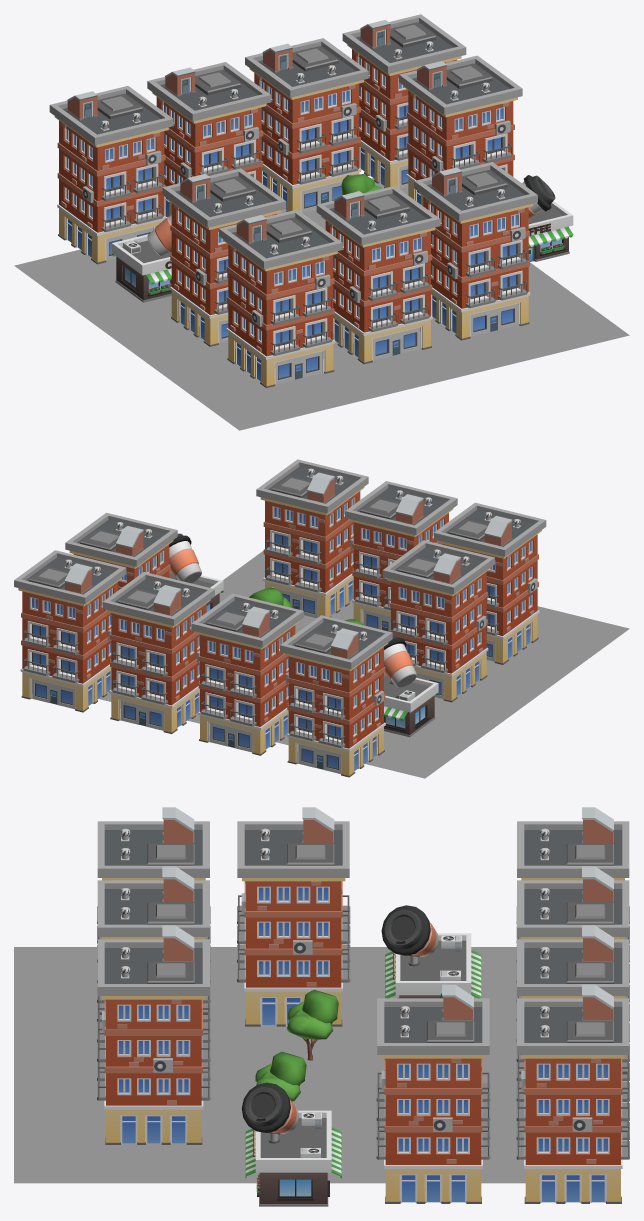
File: block_residential.glb
3 views of the same model, one above another, from view 1: azimuth 30°, elevation 25°; view 2: azimuth 150°, elevation 25°; view 3: azimuth 270°, elevation 25° (orthographic). The views are drawn at different scales.
Parts seen in each view (by area): view 1: building_0_0, building_0_3, building_1_0, building_2_0, building_2_3, building_3_2, building_0_1, building_1_3, building_3_3, ground_0_0, ground_3_0, ground_1_0 (+8 smaller); view 2: building_0_3, building_3_3, building_1_3, building_2_3, building_2_0, building_0_1, building_0_0, building_1_0, building_3_2, building_0_2, ground_0_0, ground_0_3 (+6 smaller); view 3: building_3_2, building_3_3, building_2_0, building_0_1, building_3_1, ground_3_0, building_2_3, building_1_0, building_0_2, building_0_0, building_0_3, building_1_3 (+17 smaller).
Boxes of the visible parts, box(x1,y1,x2,y2) form: building_0_0: box(219, 209, 342, 387); building_0_3: box(49, 86, 173, 264); building_1_0: box(316, 185, 440, 364); building_2_0: box(414, 162, 537, 340); building_2_3: box(245, 38, 368, 212); building_3_2: box(399, 55, 522, 205); building_0_1: box(162, 168, 286, 346); building_1_3: box(147, 62, 270, 216); building_3_3: box(342, 14, 466, 188); ground_0_0: box(183, 373, 336, 430); ground_3_0: box(494, 294, 629, 358); ground_1_0: box(299, 349, 433, 406); building_0_3: box(280, 615, 392, 777); building_3_3: box(14, 550, 126, 712); building_1_3: box(191, 593, 303, 755); building_2_3: box(102, 572, 214, 733); building_2_0: box(256, 459, 368, 618); building_0_1: box(382, 540, 494, 702); building_0_0: box(434, 502, 546, 664); building_1_0: box(345, 481, 457, 631); building_3_2: box(65, 512, 177, 590); building_0_2: box(384, 636, 438, 737); ground_0_0: box(518, 607, 629, 665); ground_0_3: box(365, 728, 475, 778); building_3_2: box(376, 984, 490, 1203); building_3_3: box(516, 984, 629, 1203); building_2_0: box(97, 925, 210, 1144); building_0_1: box(237, 807, 350, 1026); building_3_1: box(241, 1082, 341, 1206); ground_3_0: box(14, 1124, 153, 1183); building_2_3: box(516, 925, 629, 1083); building_1_0: box(97, 866, 210, 1024); building_0_2: box(381, 905, 481, 998); building_0_0: box(97, 807, 210, 965); building_0_3: box(516, 807, 629, 965); building_1_3: box(516, 866, 629, 1024).
Size of the model in its own units: 66.27 by 21.76 by 66.08.
35 materials, 35 textured.
